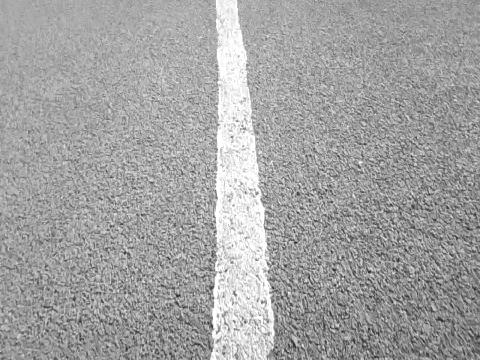Lines: (210, 0, 278, 360)
